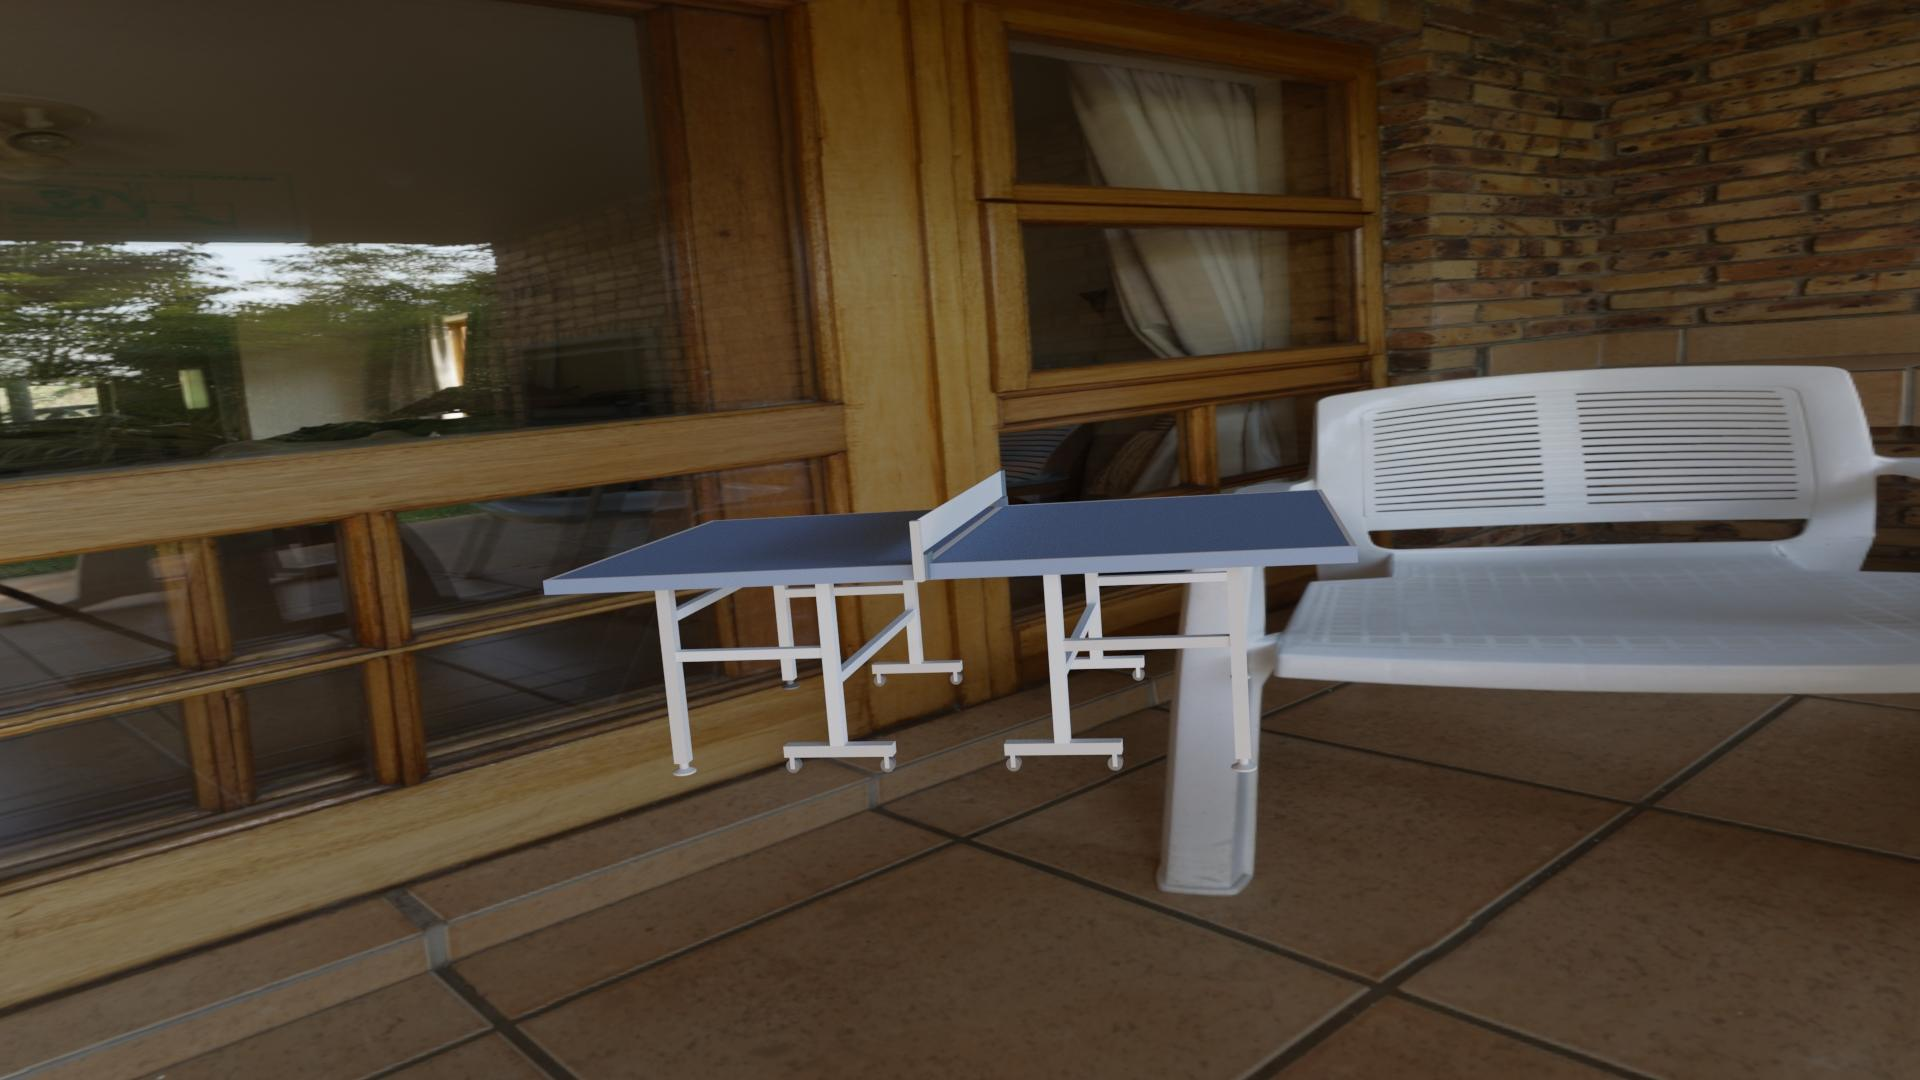table: (551, 491, 1350, 580)
